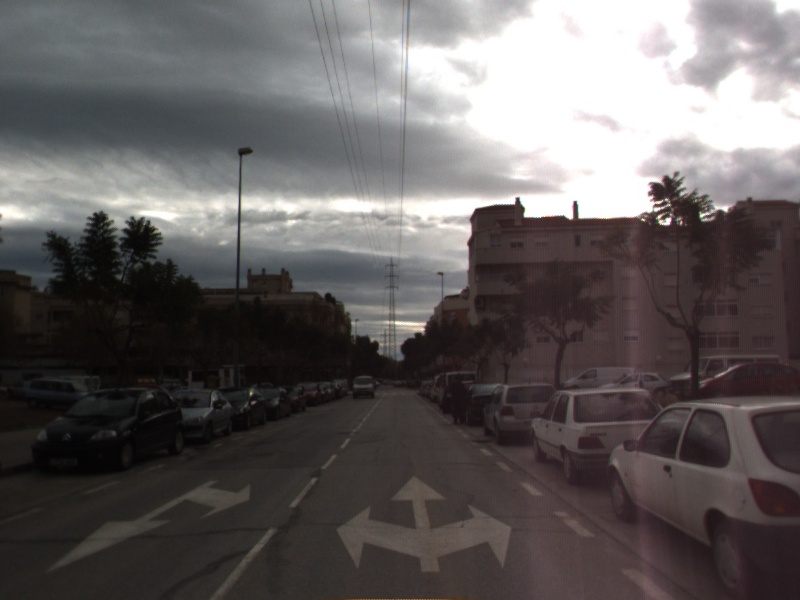STRAIGHT_LEFT_RIGHT: (334, 473, 513, 574)
